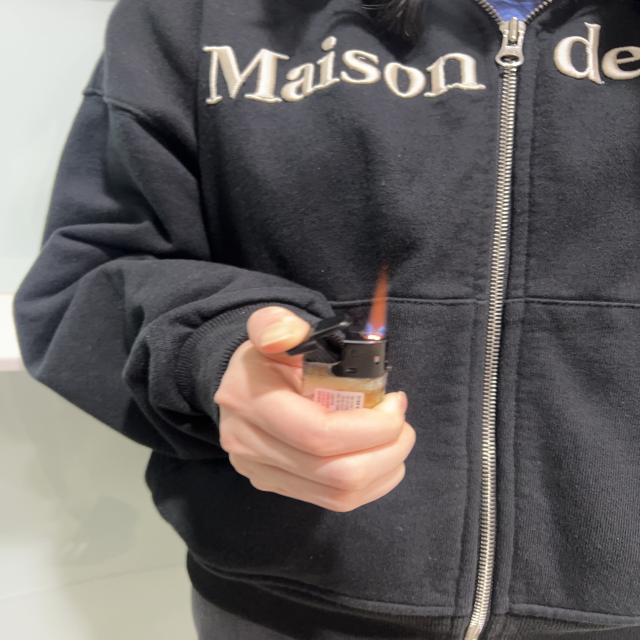fire: (357, 270, 392, 338)
